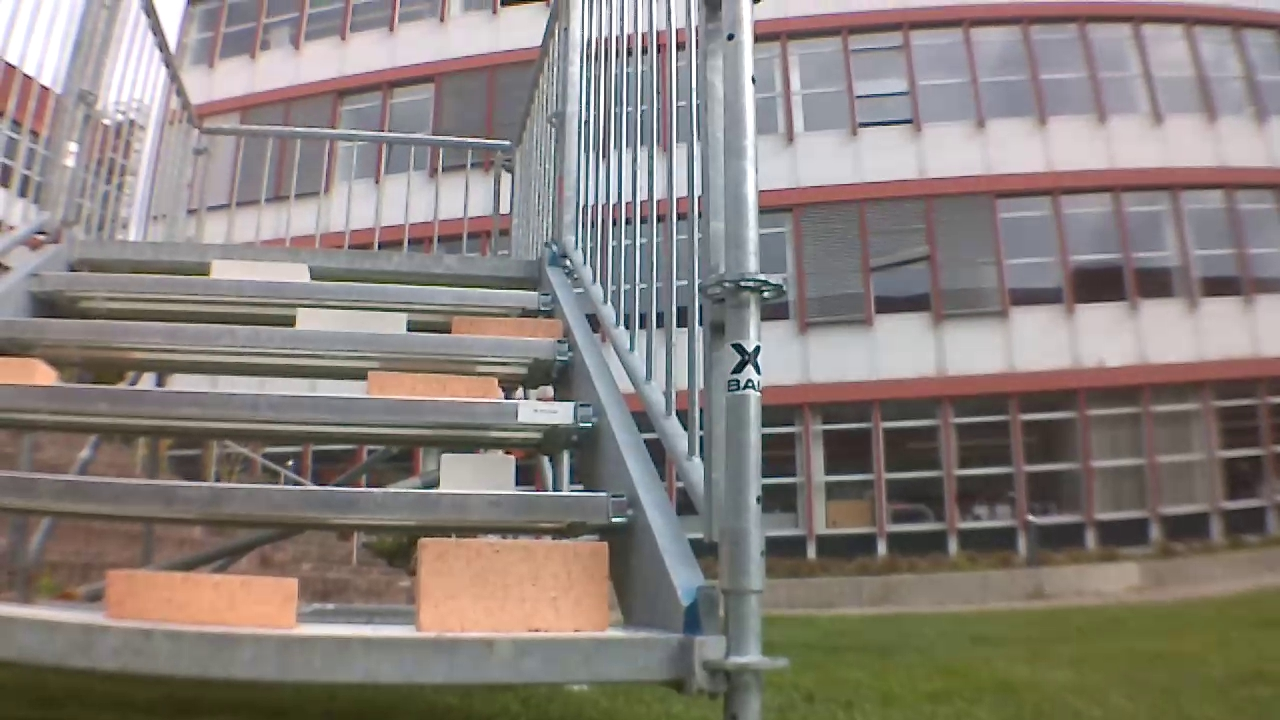brick: (415, 540, 616, 622), (99, 572, 298, 622), (363, 374, 503, 401), (451, 310, 576, 337), (280, 312, 404, 333), (443, 453, 519, 487), (214, 258, 312, 281)
edge: (0, 310, 582, 365), (0, 389, 598, 426), (39, 238, 553, 267), (22, 281, 558, 306)
stairs: (0, 0, 772, 708)
steps: (0, 236, 693, 669)
